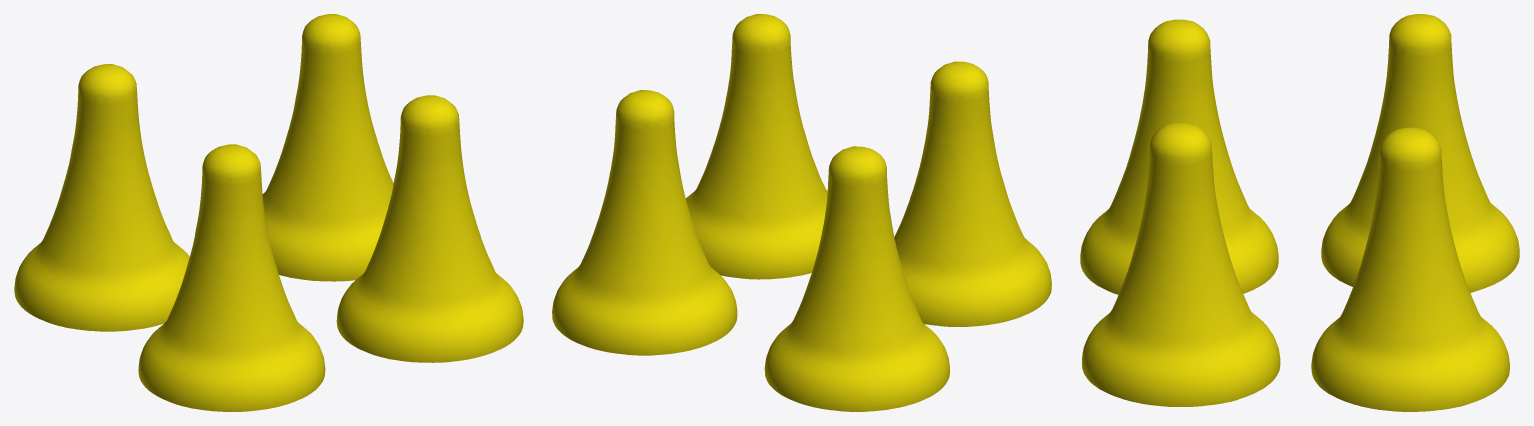
Rendered from Board_Pawn_Y.fbx.
3 views of the same model, side by side, from view 1: azimuth 30°, elevation 25°; view 2: azimuth 150°, elevation 25°; view 3: azimuth 270°, elevation 25° (orthographic). The views are drawn at different scales.
Parts seen in each view (by area): view 1: Board_Pawn_Y; view 2: Board_Pawn_Y; view 3: Board_Pawn_Y.
Boxes of the visible parts, box(x1,y1,x2,y2) form: Board_Pawn_Y: box(14, 14, 523, 411); Board_Pawn_Y: box(552, 14, 1051, 411); Board_Pawn_Y: box(1080, 14, 1519, 411).
Bounding box in the file's own units: 5.3 × 2.98 × 4.99.
